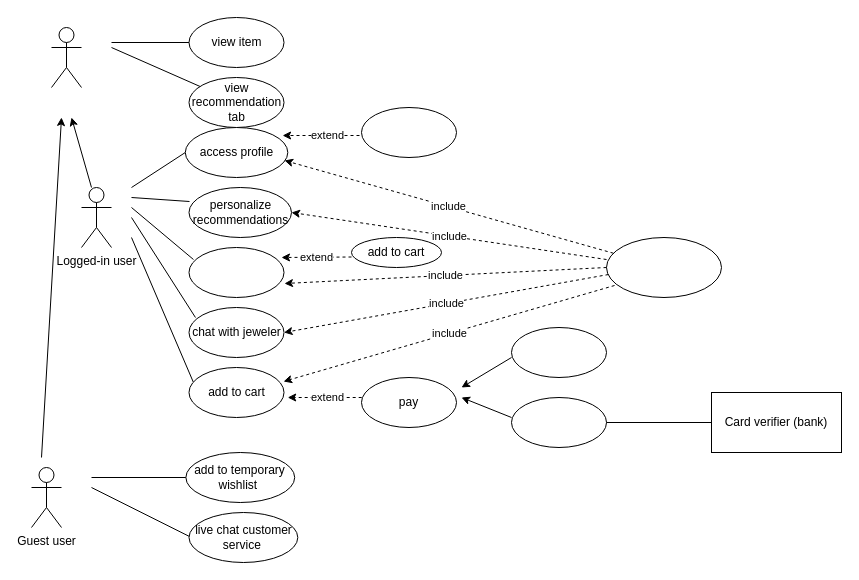
Image size: 859x580. Some labels were removed from this diagram. The shapes that lost their labels are listed below. From the top down, each one's box as (x1, y1, x2, y2) in pixels, then its label:
(50, 26, 82, 88): Customer
(360, 106, 456, 158): change personal info
(188, 246, 284, 298): add to wishlist
(606, 236, 722, 298): Login
(510, 326, 606, 378): pay by cash
(510, 396, 606, 448): pay by card
